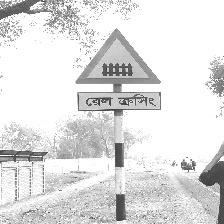Rail-crossing: (75, 30, 163, 112)
